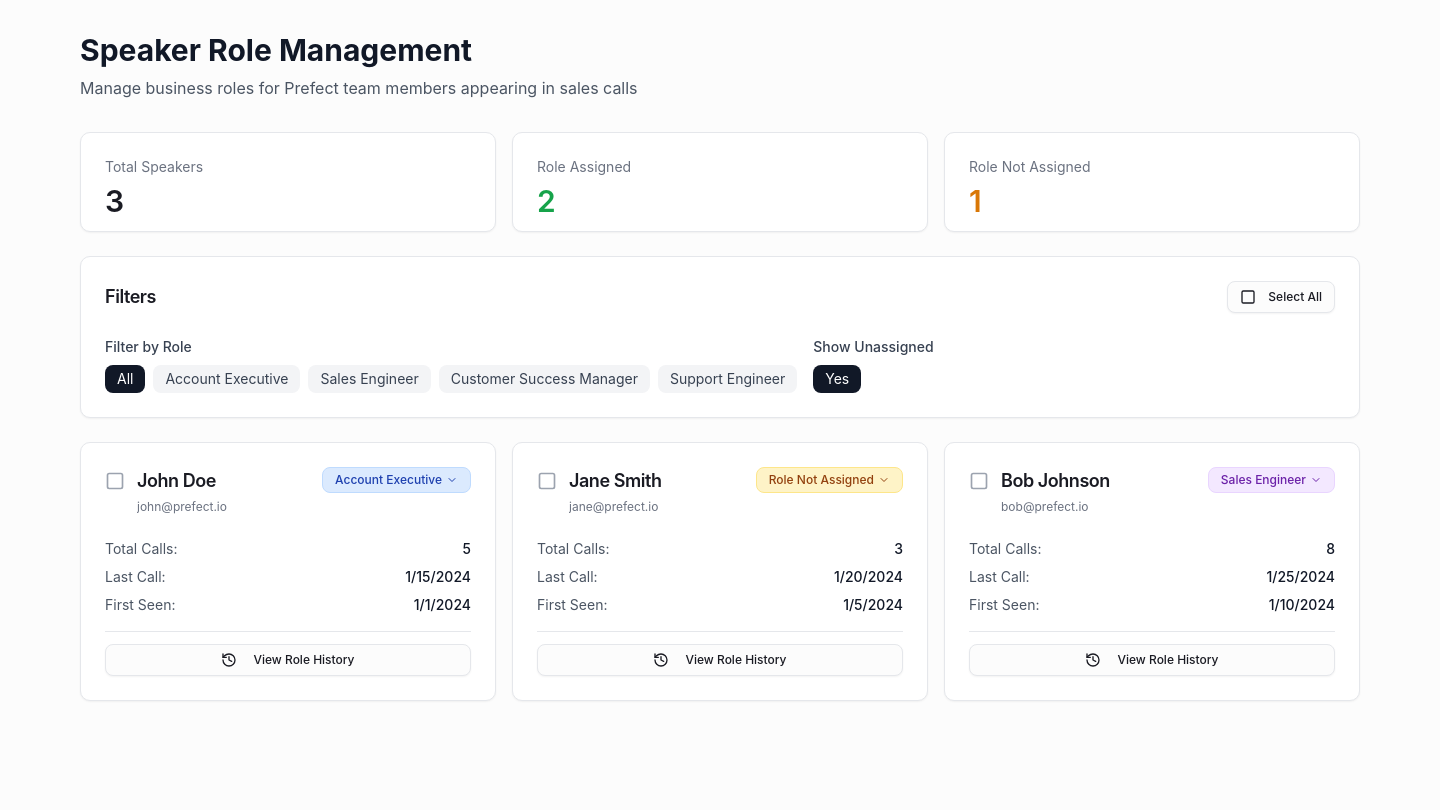
Test: SpeakersPage › Speaker Selection › selects a speaker when checkbox is clicked
The width and height of the screenshot is (1440, 810).
Click the button without text next to "John Doe" at [115, 481], box [105,471,125,491]
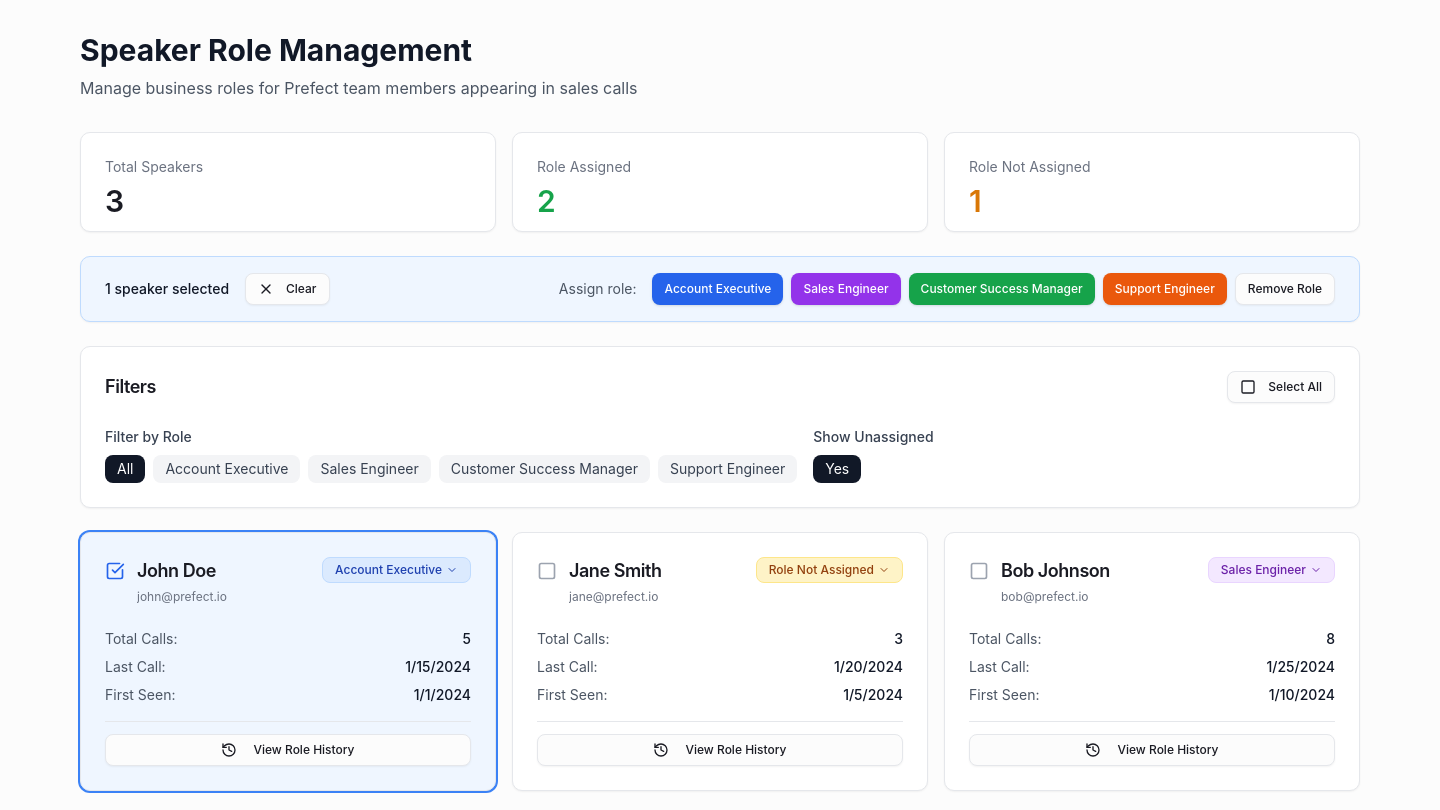
Expected: the text "1 speaker selected" is shown, [105,279,229,299]
